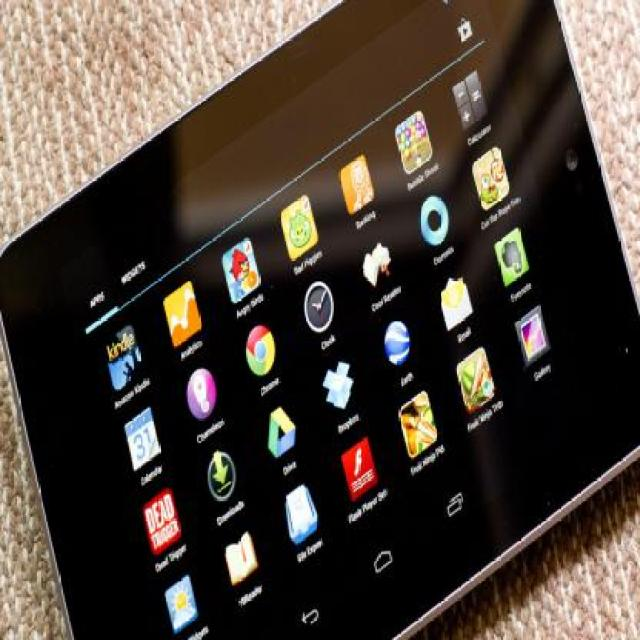tablet: (2, 3, 639, 640)
